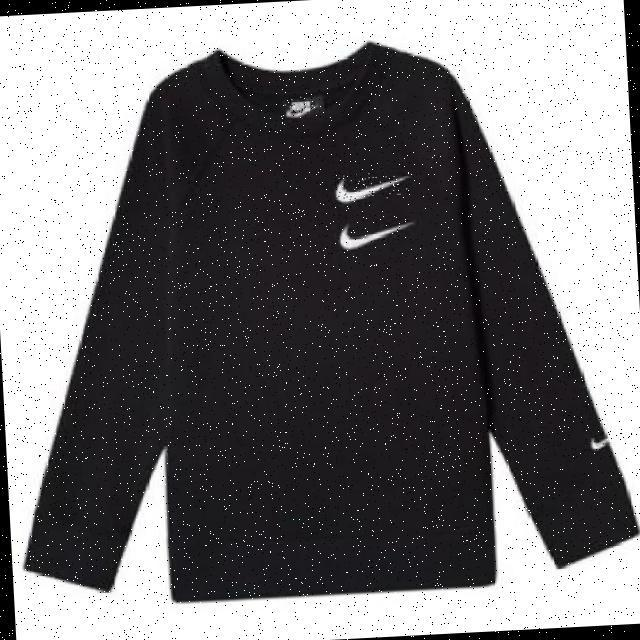Nike: (333, 172, 410, 201), (337, 219, 412, 247), (284, 96, 318, 117), (588, 434, 605, 449)
